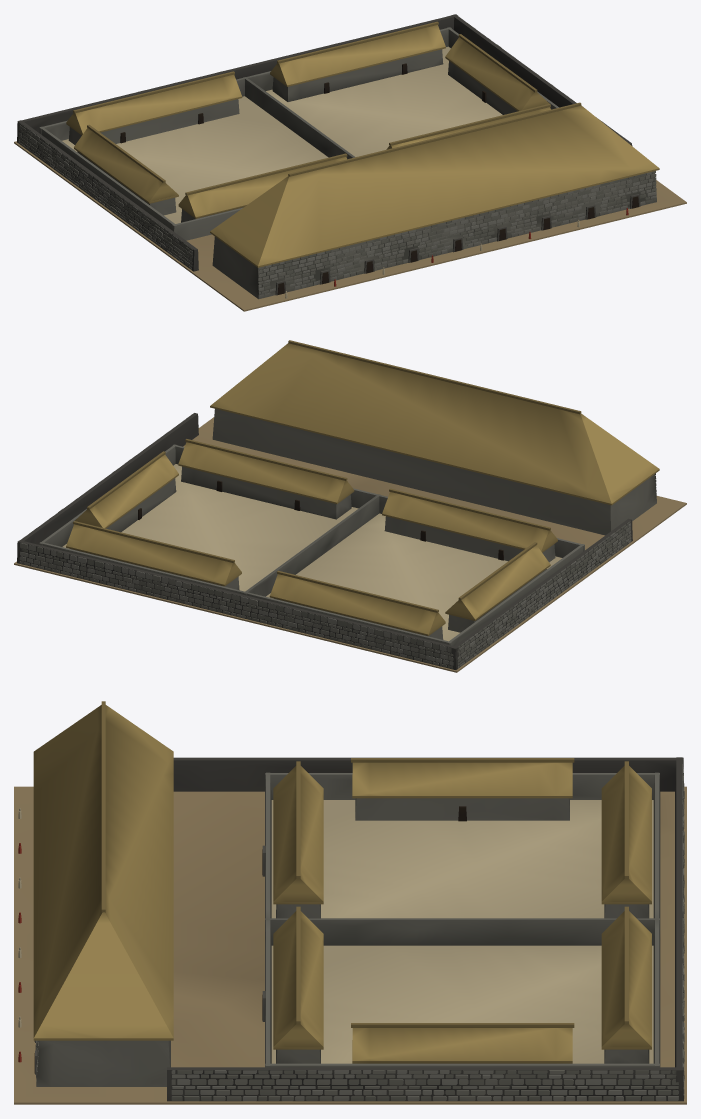
Rendered from kasana.glb.
3 views of the same model, one above another, from view 1: azimuth 30°, elevation 25°; view 2: azimuth 150°, elevation 25°; view 3: azimuth 270°, elevation 25° (orthographic). The views are drawn at different scales.
Parts seen in each view (by area): view 1: p1_walls, p2_roofs, p0_ground; view 2: p1_walls, p2_roofs, p0_ground; view 3: p1_walls, p2_roofs, p0_ground.
Part boxes in pixels (x1=…): p1_walls: x1=17, y1=14, x2=656, y2=299; p2_roofs: x1=66, y1=21, x2=659, y2=267; p0_ground: x1=14, y1=141, x2=686, y2=311; p1_walls: x1=17, y1=409, x2=656, y2=669; p2_roofs: x1=66, y1=340, x2=659, y2=635; p0_ground: x1=14, y1=417, x2=686, y2=672; p1_walls: x1=18, y1=757, x2=684, y2=1101; p2_roofs: x1=33, y1=701, x2=651, y2=1063; p0_ground: x1=14, y1=786, x2=686, y2=1104.
Bounding box in the file's own units: 100 × 20.85 × 90.
